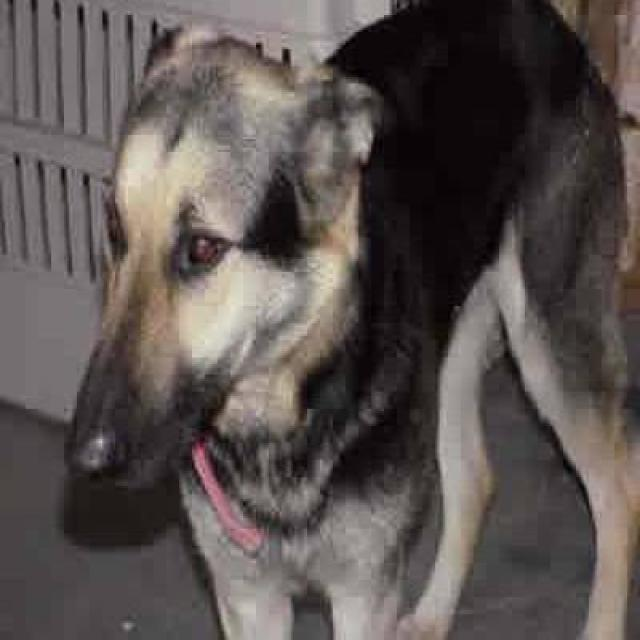dog: (62, 0, 634, 638)
